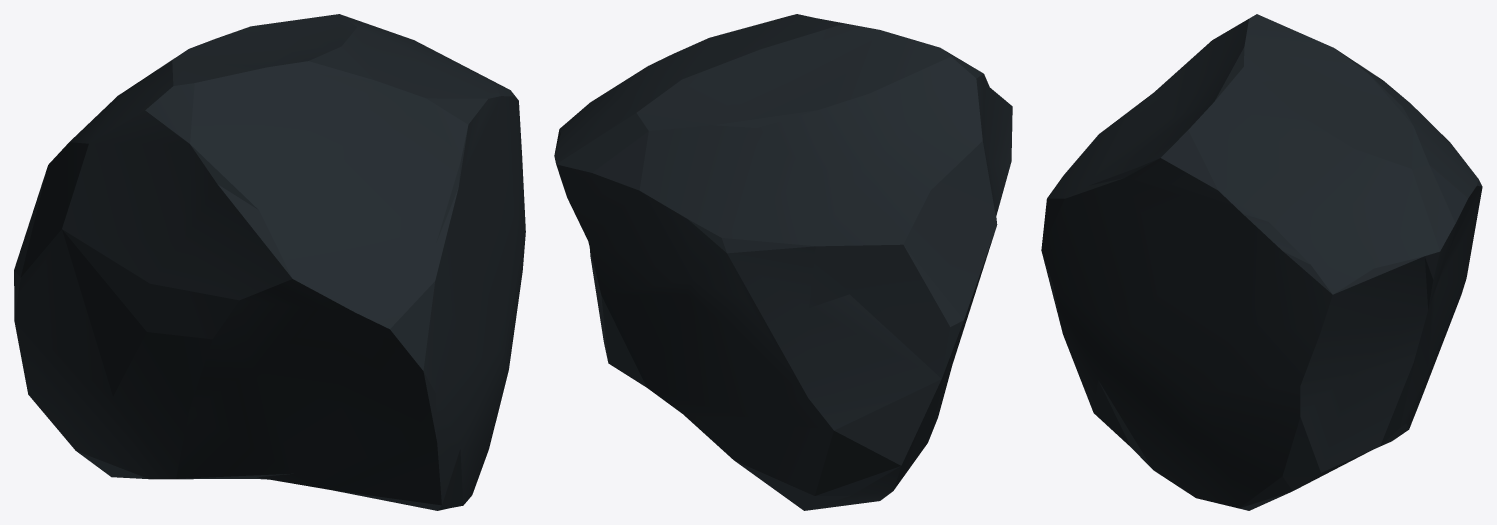
Rendered from Asteroid_s_31.FBX.
3 views of the same model, side by side, from view 1: azimuth 30°, elevation 25°; view 2: azimuth 150°, elevation 25°; view 3: azimuth 270°, elevation 25° (orthographic). The views are drawn at different scales.
Visible parts, largest first — view 1: Asteroid_s_31; view 2: Asteroid_s_31; view 3: Asteroid_s_31.
Boxes of the visible parts, x1,y1,x2,y2 form: Asteroid_s_31: (14, 14, 525, 510); Asteroid_s_31: (554, 14, 1012, 510); Asteroid_s_31: (1041, 14, 1482, 510).
Bounding box in the file's own units: 162 × 153 × 155.
